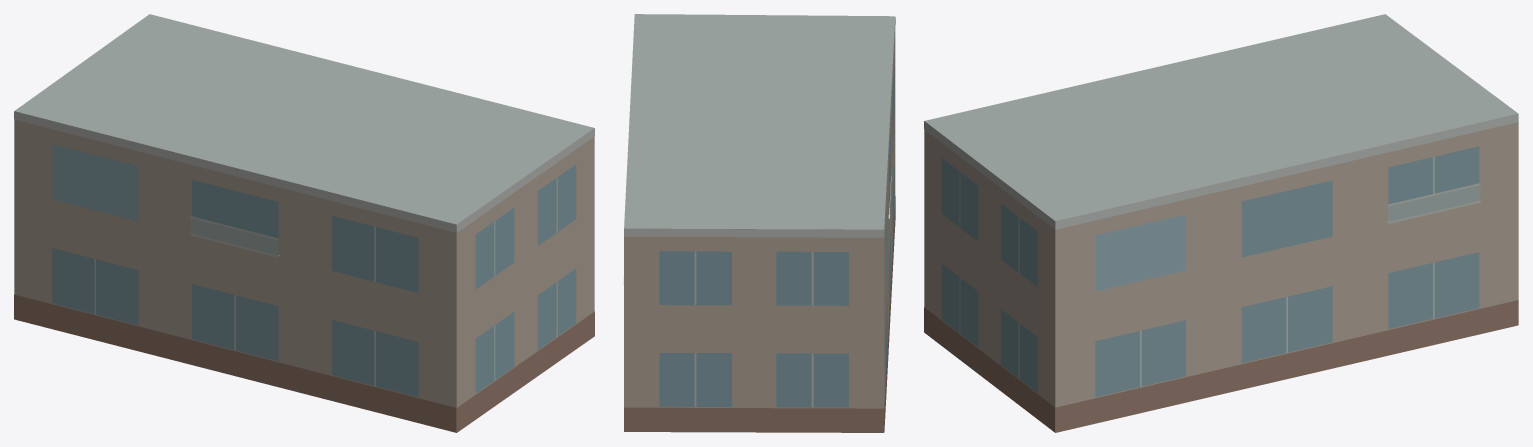
The model's file is survey-upis-32712015.glb.
3 renders of one model, left to right at view 1: azimuth 30°, elevation 25°; view 2: azimuth 150°, elevation 25°; view 3: azimuth 270°, elevation 25°, orthographic. The views are drawn at different scales.
Parts seen in each view (by area): view 1: survey-upis-32712015.tmp; view 2: survey-upis-32712015.tmp; view 3: survey-upis-32712015.tmp.
Boxes of the visible parts, x1,y1,x2,y2 form: survey-upis-32712015.tmp: [14, 14, 594, 432]; survey-upis-32712015.tmp: [623, 14, 895, 432]; survey-upis-32712015.tmp: [924, 14, 1518, 432].
Bounding box in the file's own units: 12.83 × 6.1 × 15.54.
